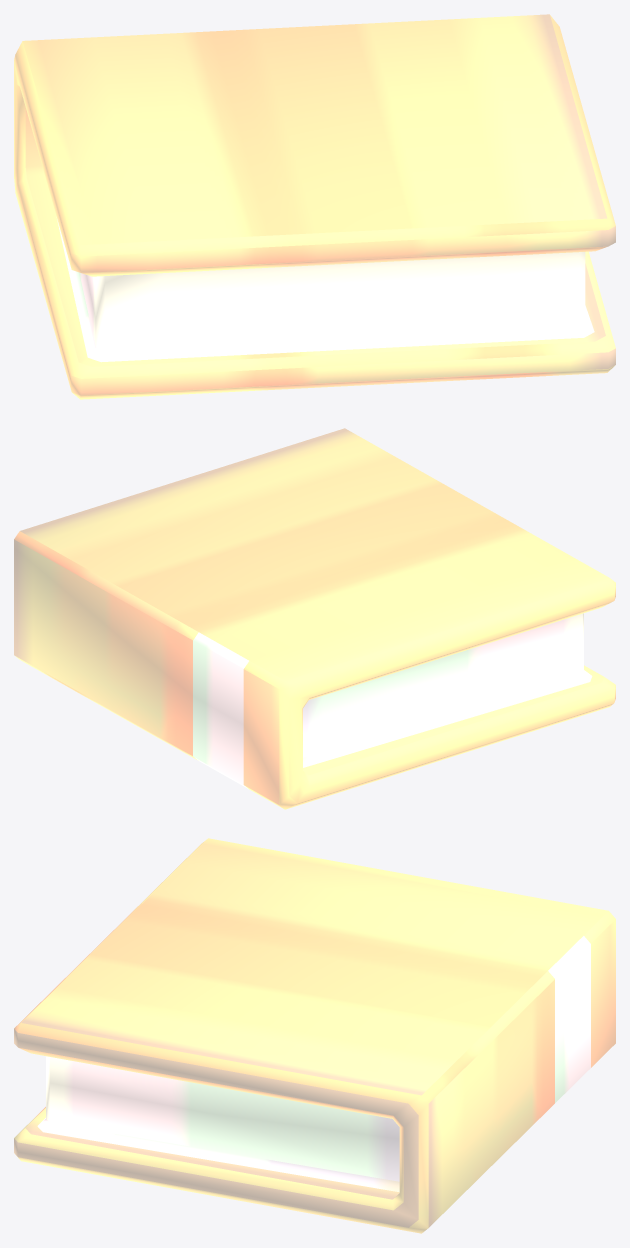
The model's file is book3.gltf.
3 views of the same model, one above another, from view 1: azimuth 30°, elevation 25°; view 2: azimuth 150°, elevation 25°; view 3: azimuth 270°, elevation 25° (orthographic). The views are drawn at different scales.
Parts seen in each view (by area): view 1: book3; view 2: book3; view 3: book3.
Part boxes in pixels (bbox=[...]): book3: bbox=[14, 14, 615, 399]; book3: bbox=[14, 428, 615, 809]; book3: bbox=[14, 838, 615, 1233].
Size of the model in its own units: 0.2716 by 0.0665 by 0.2625.
Materials: 1 (1 with a texture image).
